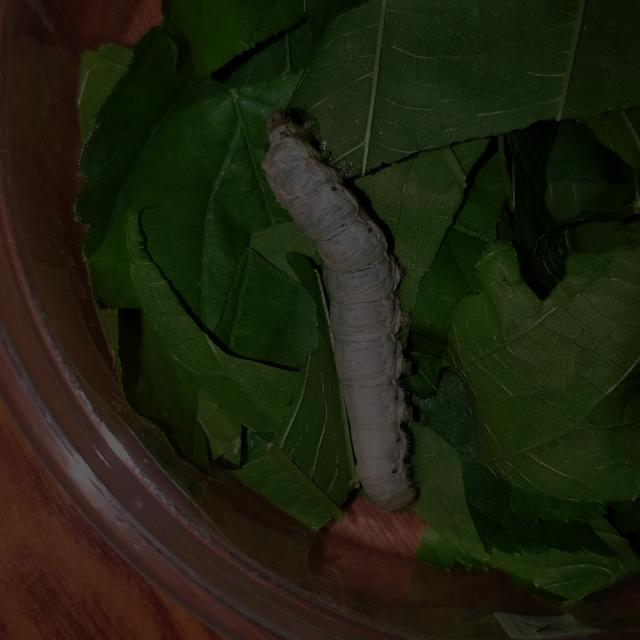Healthy: (245, 92, 445, 521)
